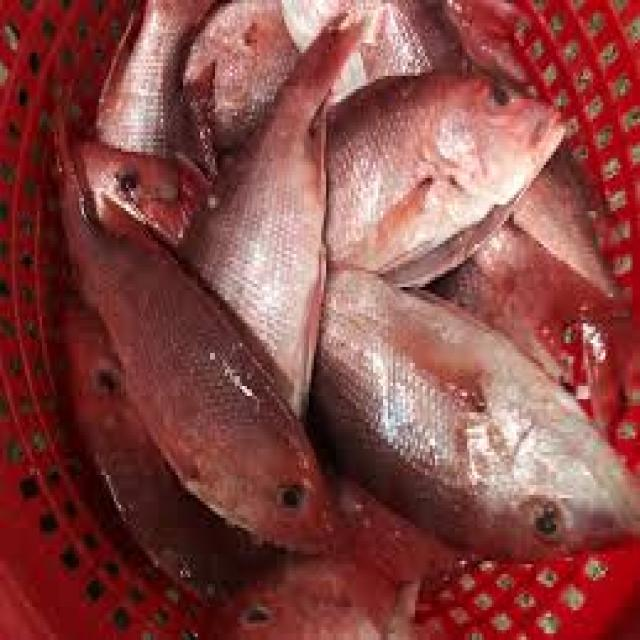northern-red-snapper: (37, 111, 357, 574), (311, 245, 640, 573), (299, 62, 576, 296), (32, 291, 205, 590), (191, 0, 504, 135), (83, 0, 237, 235), (179, 529, 388, 640)
